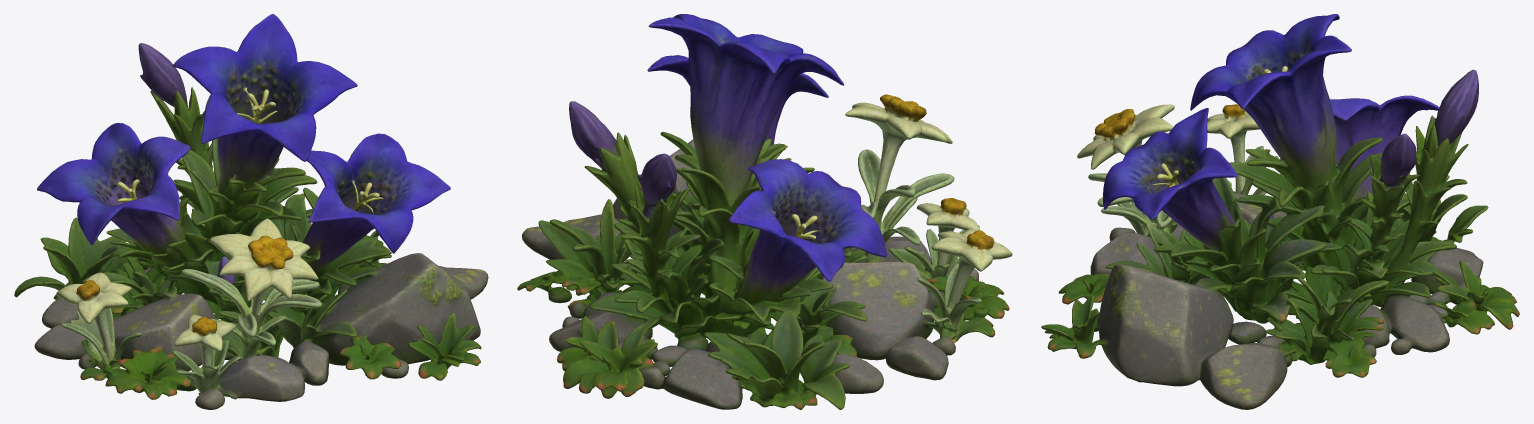
Rendered from mountain-wildflowers.glb.
The picture shows the model from 3 angles, left to right: view 1: azimuth 30°, elevation 25°; view 2: azimuth 150°, elevation 25°; view 3: azimuth 270°, elevation 25°; orthographic projection. The views are drawn at different scales.
Bounding box in the file's own units: 0.9842 × 0.6157 × 0.9319.
1 material, 1 textured.
